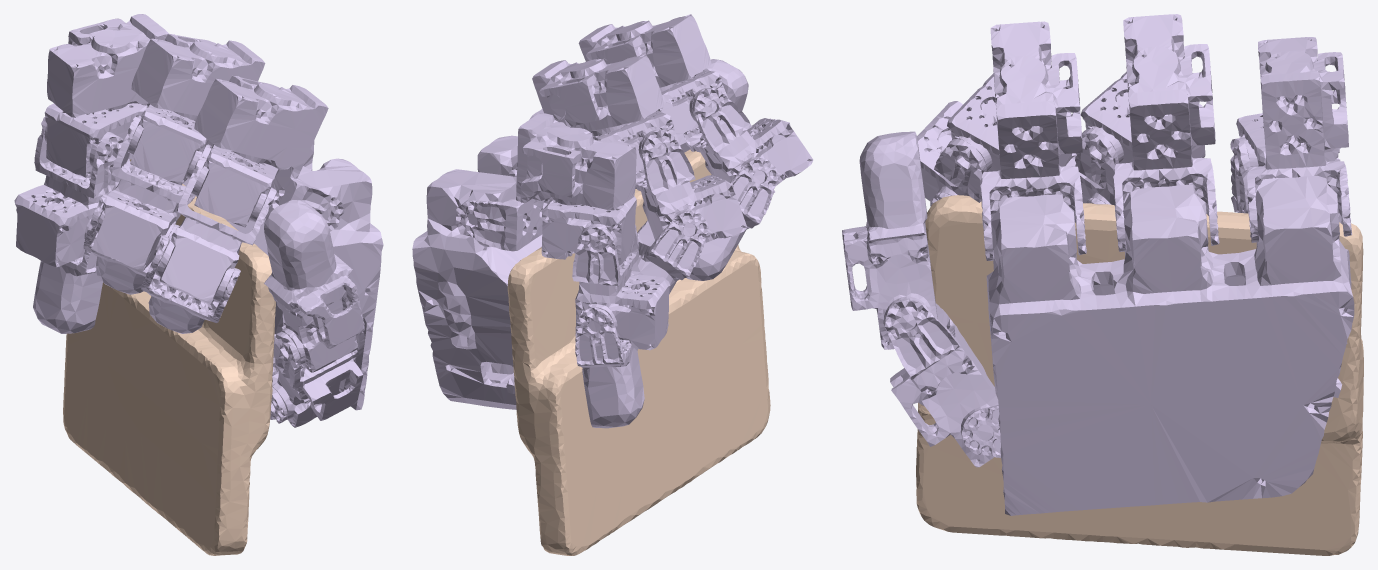
File: d733fba7965228-final.glb
3 views of the same model, side by side, from view 1: azimuth 30°, elevation 25°; view 2: azimuth 150°, elevation 25°; view 3: azimuth 270°, elevation 25° (orthographic). The views are drawn at different scales.
Visible parts, largest first — view 1: LEAP_hand, world; view 2: LEAP_hand, world; view 3: LEAP_hand, world.
Boxes of the visible parts, x1,y1,x2,y2 form: LEAP_hand: [14, 14, 383, 427]; world: [63, 159, 275, 555]; LEAP_hand: [412, 14, 813, 428]; world: [507, 149, 770, 555]; LEAP_hand: [842, 14, 1354, 515]; world: [916, 195, 1363, 555].
Bounding box in the file's own units: 0.1161 × 0.202 × 0.1782.
